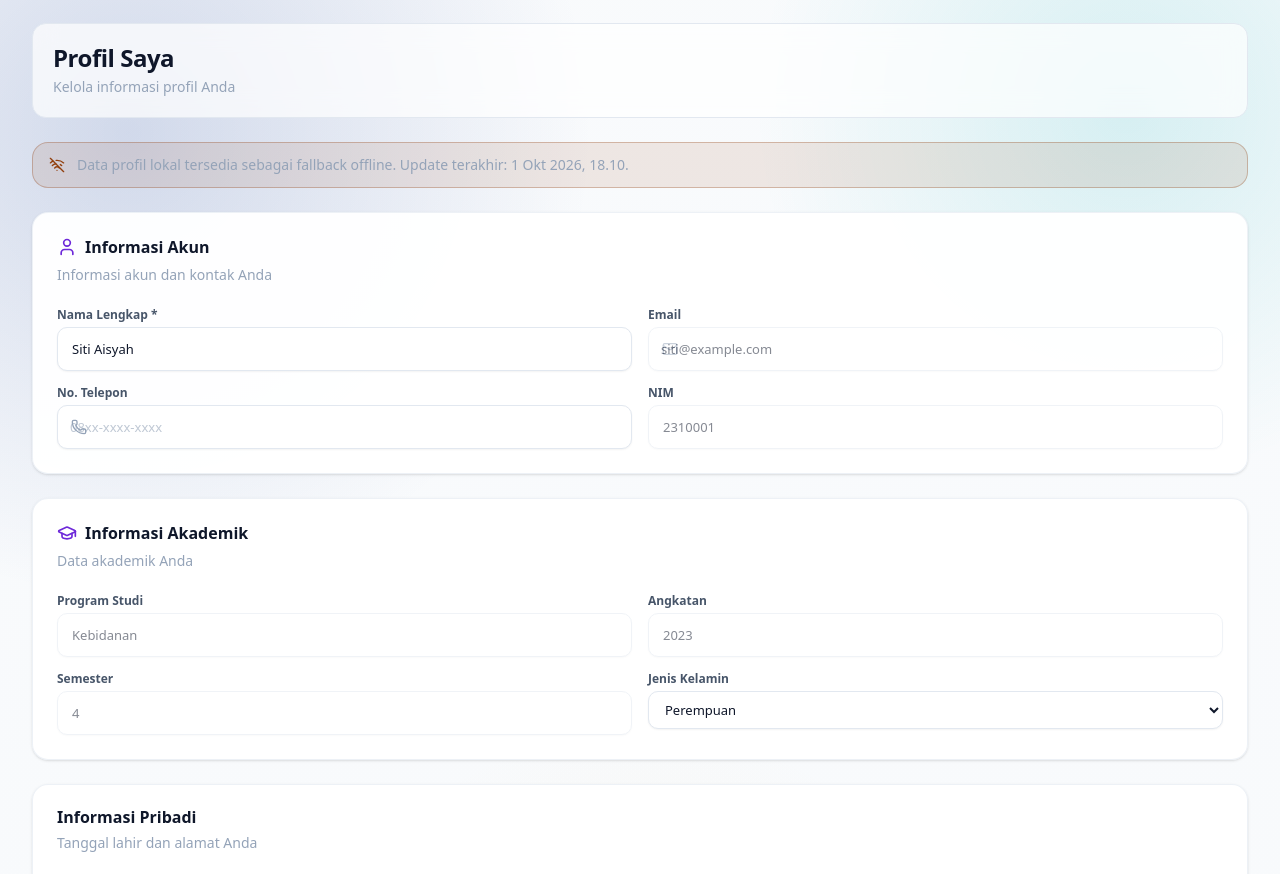
Test case: Mahasiswa ProfilePage › menyimpan perubahan profil
The width and height of the screenshot is (1280, 874).
Replace the text in the field labelled "Nama Lengkap *" with "Siti Update" at coordinates (344, 349), box [57, 327, 632, 371]
(page scrolled)
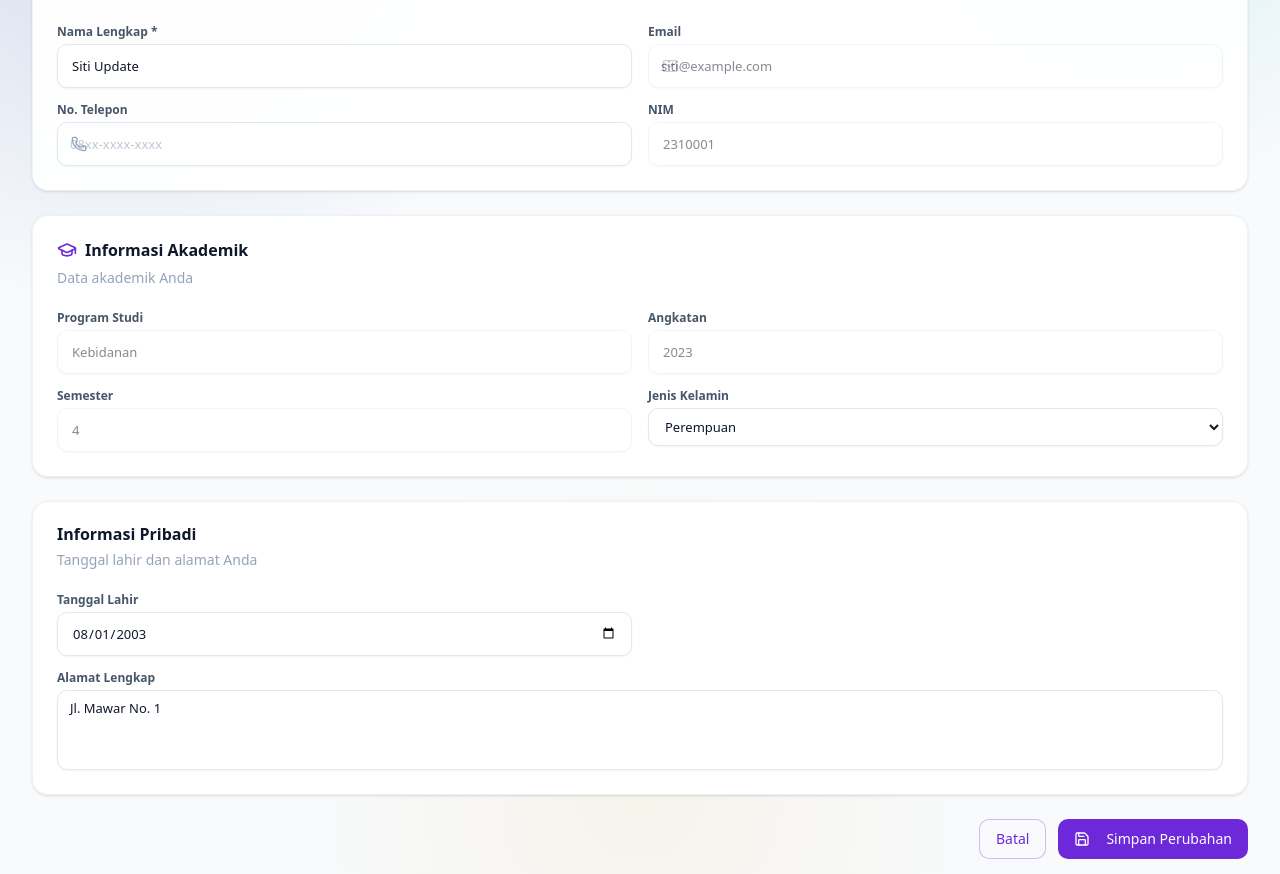
Click the button "Simpan Perubahan".
click(1153, 839)  # box [1058, 819, 1248, 859]
(page scrolled)
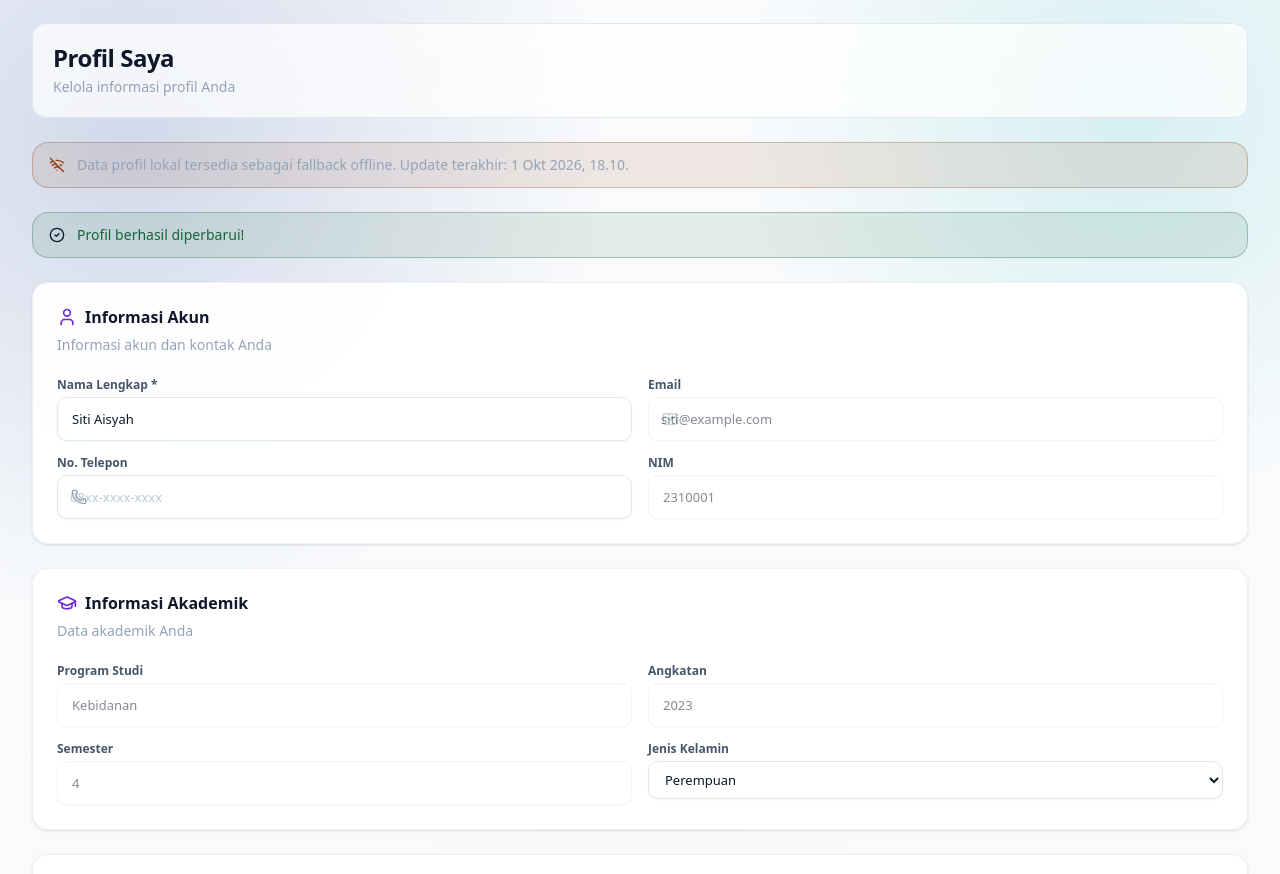
Expected: the text "Profil berhasil diperbarui!" is shown, [77, 225, 244, 244]
